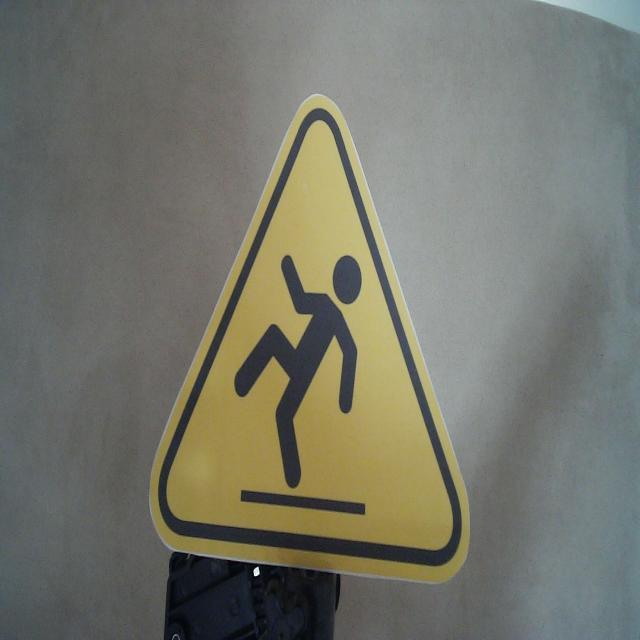slippery_sign: (147, 90, 472, 586)
